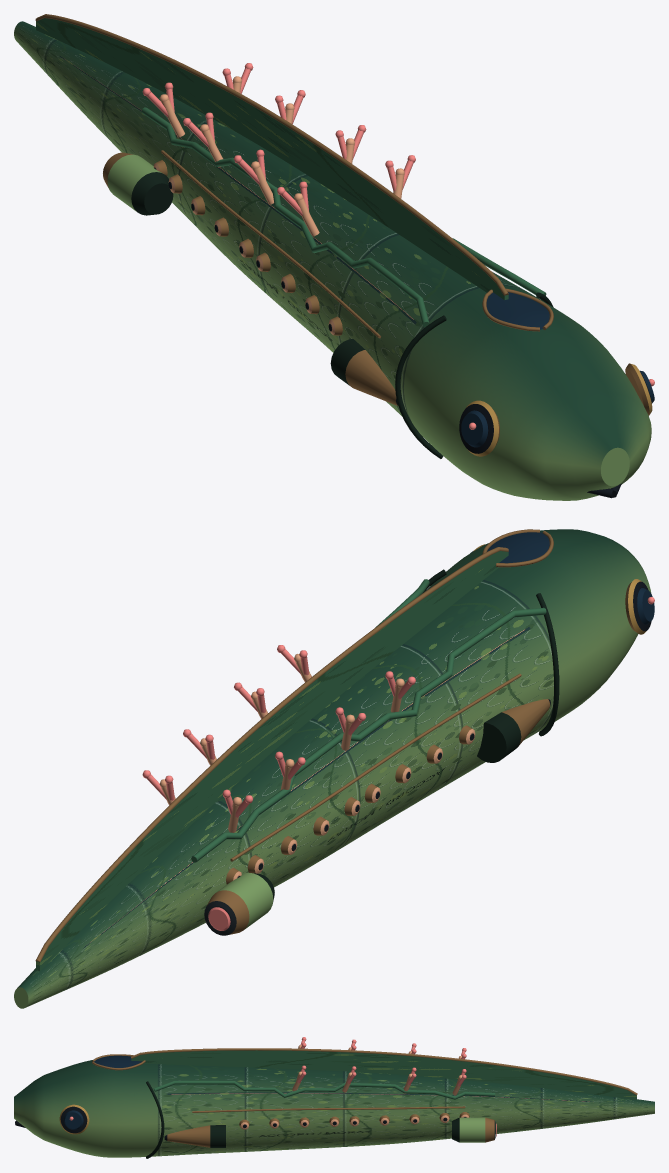
The picture shows the model from 3 angles, top to bottom: view 1: azimuth 30°, elevation 25°; view 2: azimuth 150°, elevation 25°; view 3: azimuth 270°, elevation 25°; orthographic projection. The views are drawn at different scales.
Visible parts, largest first — view 1: moray_hull; view 2: moray_hull; view 3: moray_hull.
Part boxes in pixels (x1,y1,x2,y2): moray_hull: (14, 14, 654, 500); moray_hull: (14, 529, 654, 1008); moray_hull: (14, 1037, 654, 1158).
Bounding box in the file's own units: 7.55 × 7.56 × 42.
Materials: 1 (1 with a texture image).
